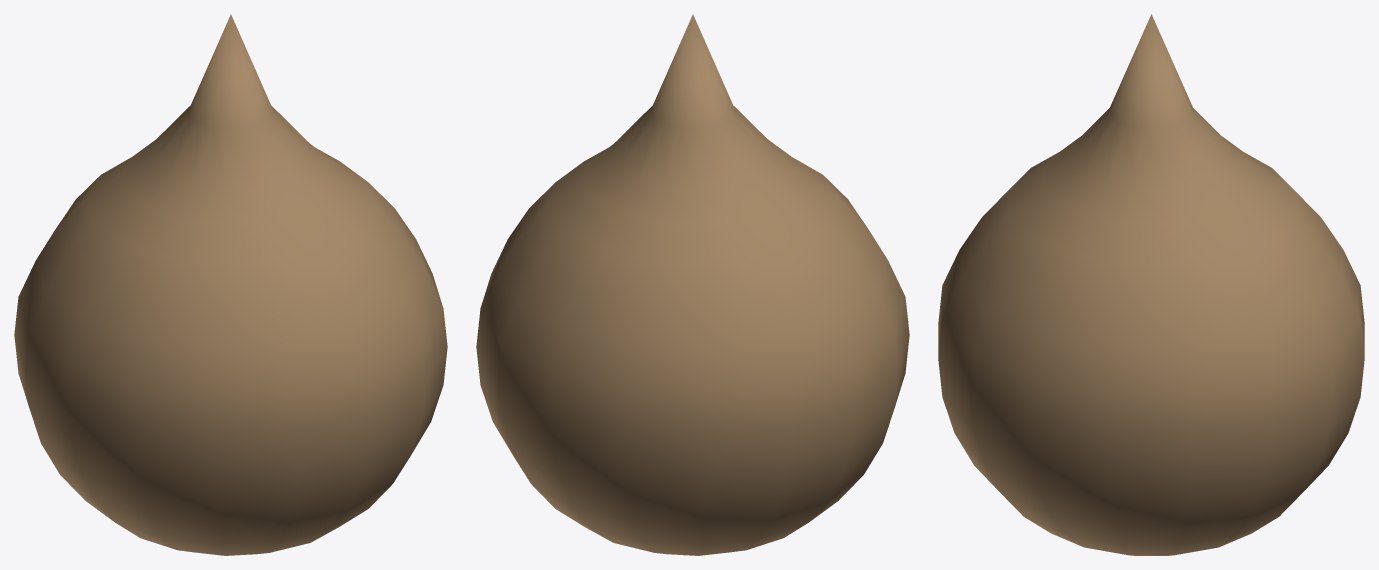
File: onionModel.FBX
3 renders of one model, left to right at view 1: azimuth 30°, elevation 25°; view 2: azimuth 150°, elevation 25°; view 3: azimuth 270°, elevation 25°, orthographic.
Visible parts, largest first — view 1: Sphere001; view 2: Sphere001; view 3: Sphere001.
Part boxes in pixels (left/top/right/bottom): Sphere001: left=14, top=14, right=447, bottom=555; Sphere001: left=476, top=14, right=909, bottom=555; Sphere001: left=938, top=14, right=1364, bottom=555.
Size of the model in its own units: 57.55 by 77.72 by 57.55.
